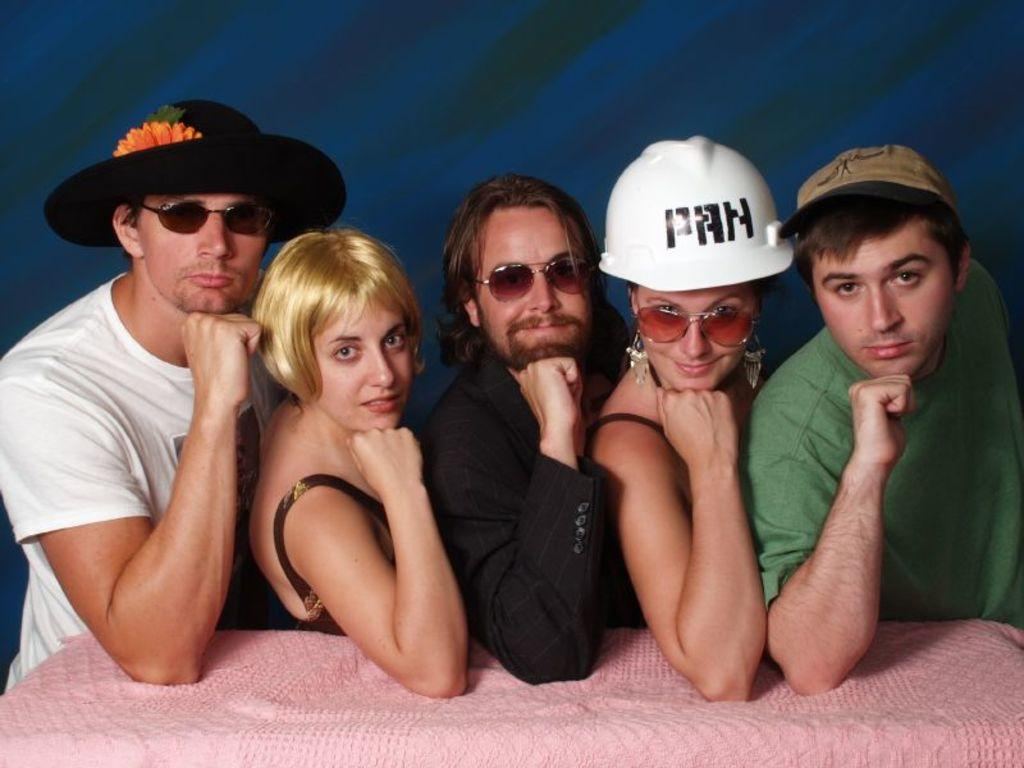Hat: (42, 100, 348, 246), (779, 141, 962, 243)
